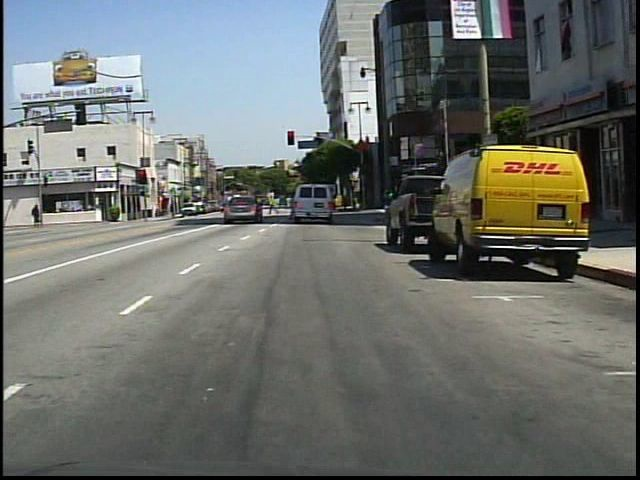person: (285, 191, 303, 223), (266, 194, 280, 218), (31, 204, 42, 227)
